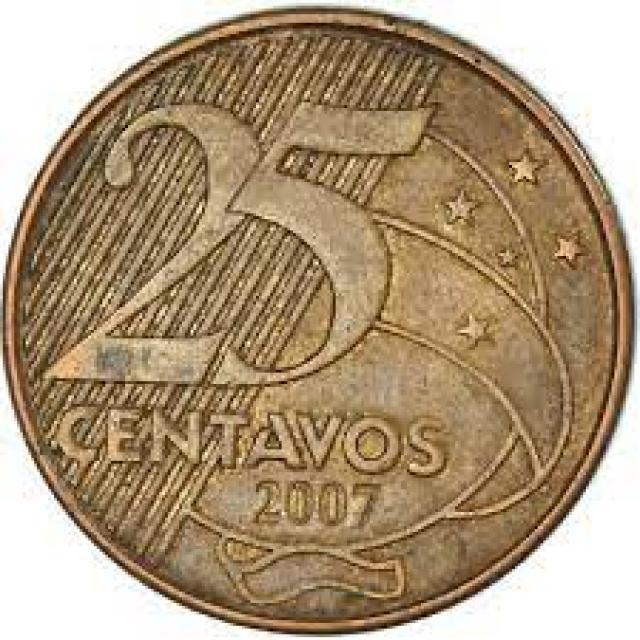25 cent: (8, 6, 628, 632)
